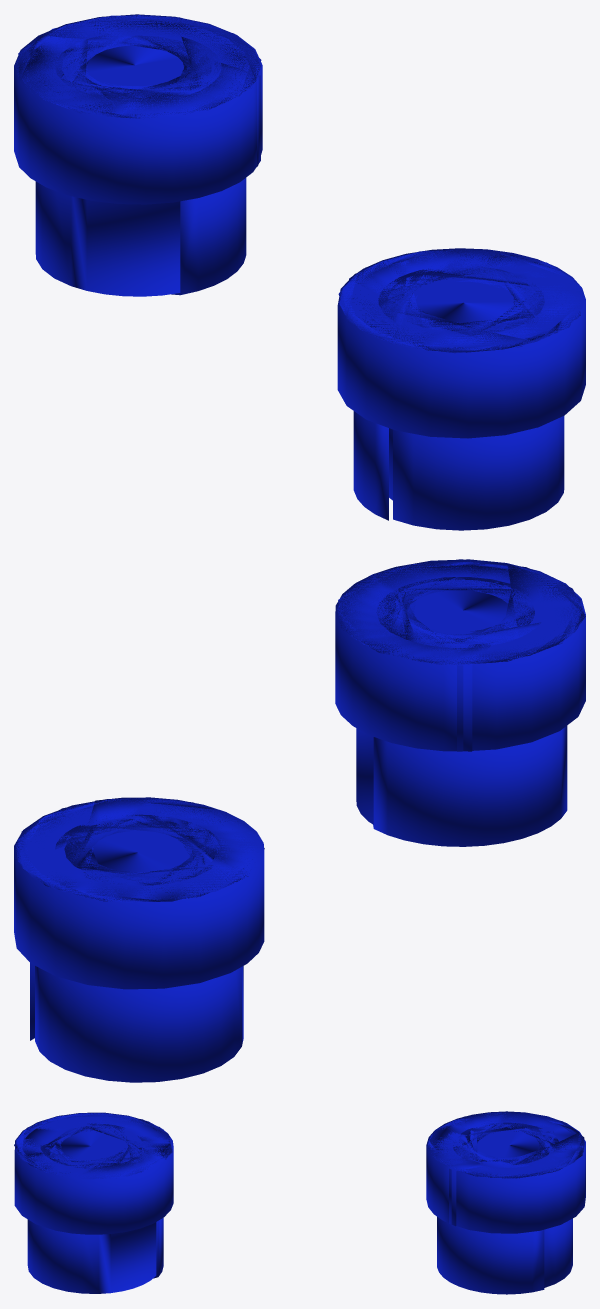
Rendered from tuyeau_element_000027.obj.
3 renders of one model, top to bottom at view 1: azimuth 30°, elevation 25°; view 2: azimuth 150°, elevation 25°; view 3: azimuth 270°, elevation 25°, orthographic. The views are drawn at different scales.
Parts seen in each view (by area): view 1: tuyeau1_Cube.014, tuyeau2_Cube.017; view 2: tuyeau2_Cube.017, tuyeau1_Cube.014; view 3: tuyeau1_Cube.014, tuyeau2_Cube.017.
Part boxes in pixels (x1,y1,x2,y2): tuyeau1_Cube.014: (14, 14, 262, 296); tuyeau2_Cube.017: (337, 248, 585, 530); tuyeau2_Cube.017: (335, 559, 585, 846); tuyeau1_Cube.014: (14, 797, 264, 1082); tuyeau1_Cube.014: (426, 1111, 585, 1294); tuyeau2_Cube.017: (14, 1112, 173, 1293).
Bounding box in the file's own units: 3575 × 2917 × 12618.
